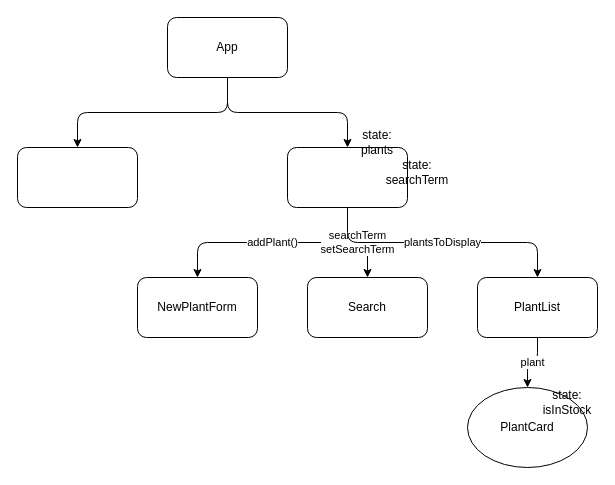
This 615x485 diagram has some shape labels left out. Each missing label, with the box of its shape:
Header: (16, 146, 138, 208)
PlantPage: (286, 146, 408, 208)
